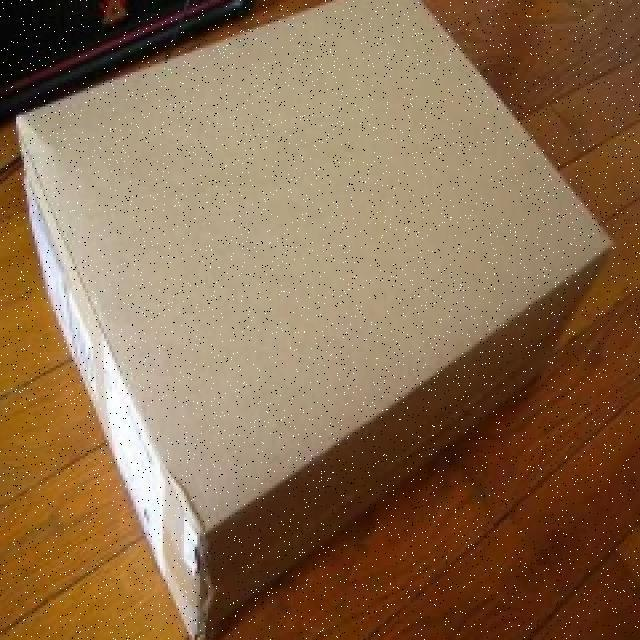box: (0, 0, 608, 632)
